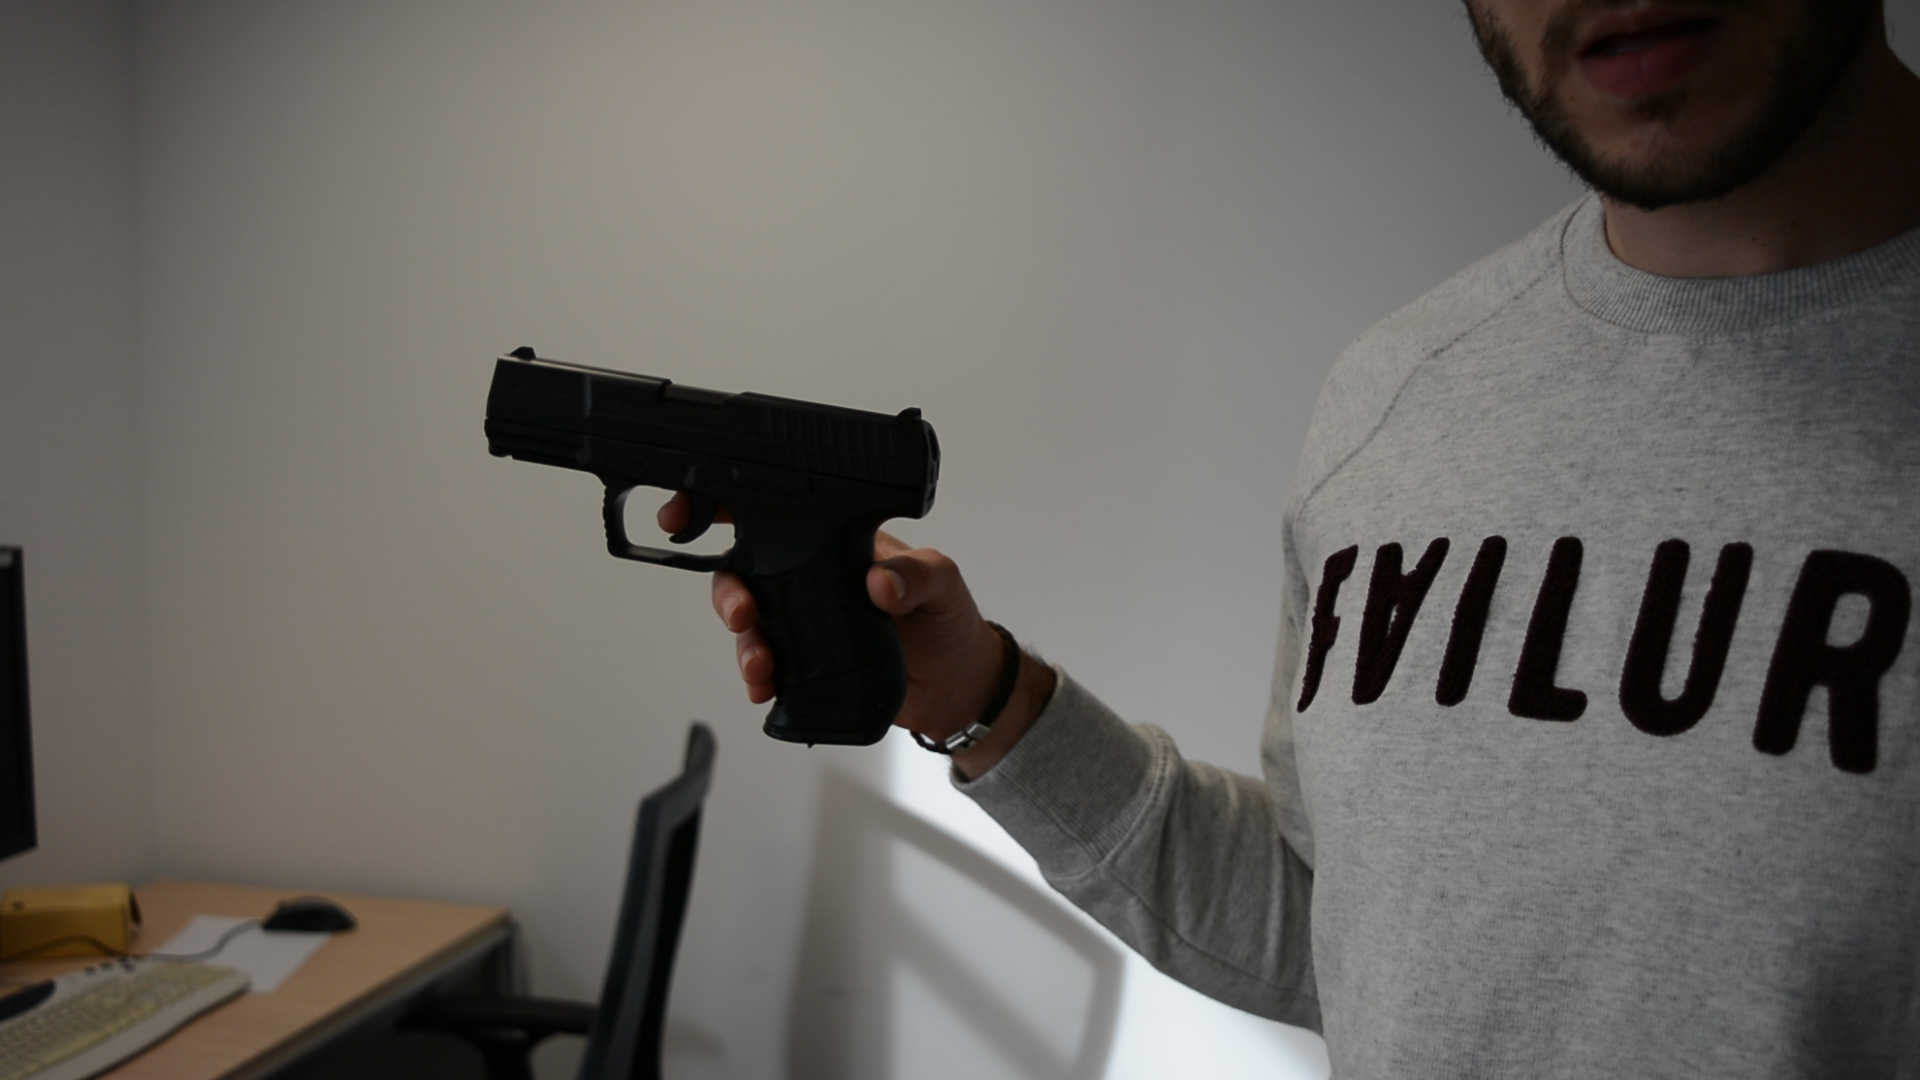pistol: (481, 343, 943, 753)
